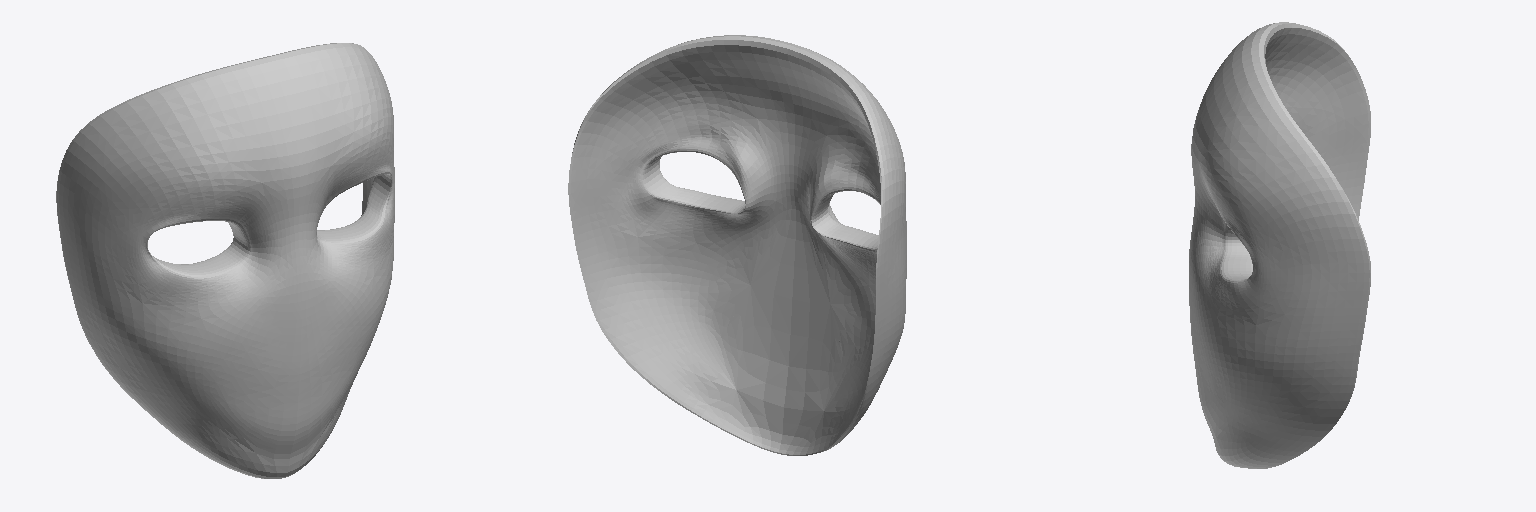
The model's file is Mask.obj.
3 renders of one model, left to right at view 1: azimuth 30°, elevation 25°; view 2: azimuth 150°, elevation 25°; view 3: azimuth 270°, elevation 25°, orthographic.
Parts seen in each view (by area): view 1: body_Circle; view 2: body_Circle; view 3: body_Circle.
Boxes of the visible parts, x1=… form: body_Circle: x1=56, y1=43, x2=394, y2=478; body_Circle: x1=568, y1=35, x2=906, y2=455; body_Circle: x1=1189, y1=22, x2=1370, y2=468.
Size of the model in its own units: 1.08 by 1.38 by 0.5527.